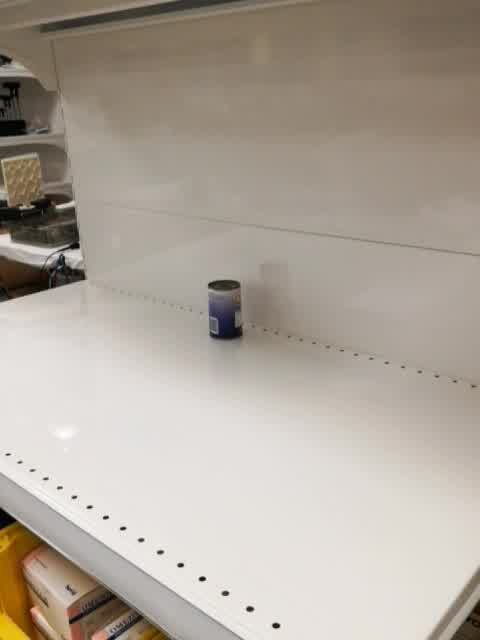sardine: (207, 277, 244, 342)
